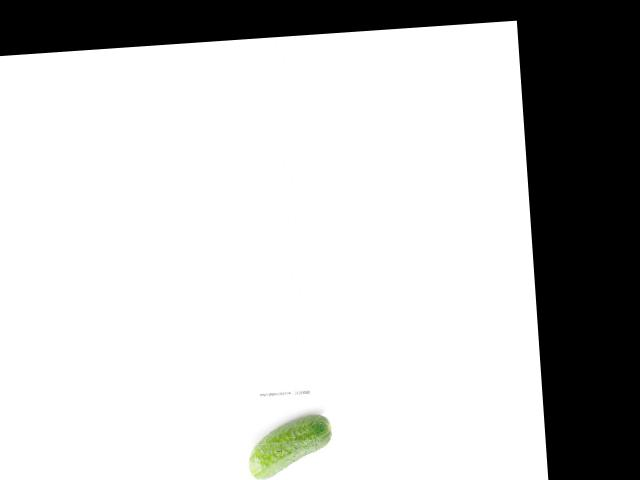cucumber: (246, 412, 334, 480)
